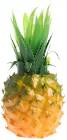Pineapple: (1, 3, 65, 140)
